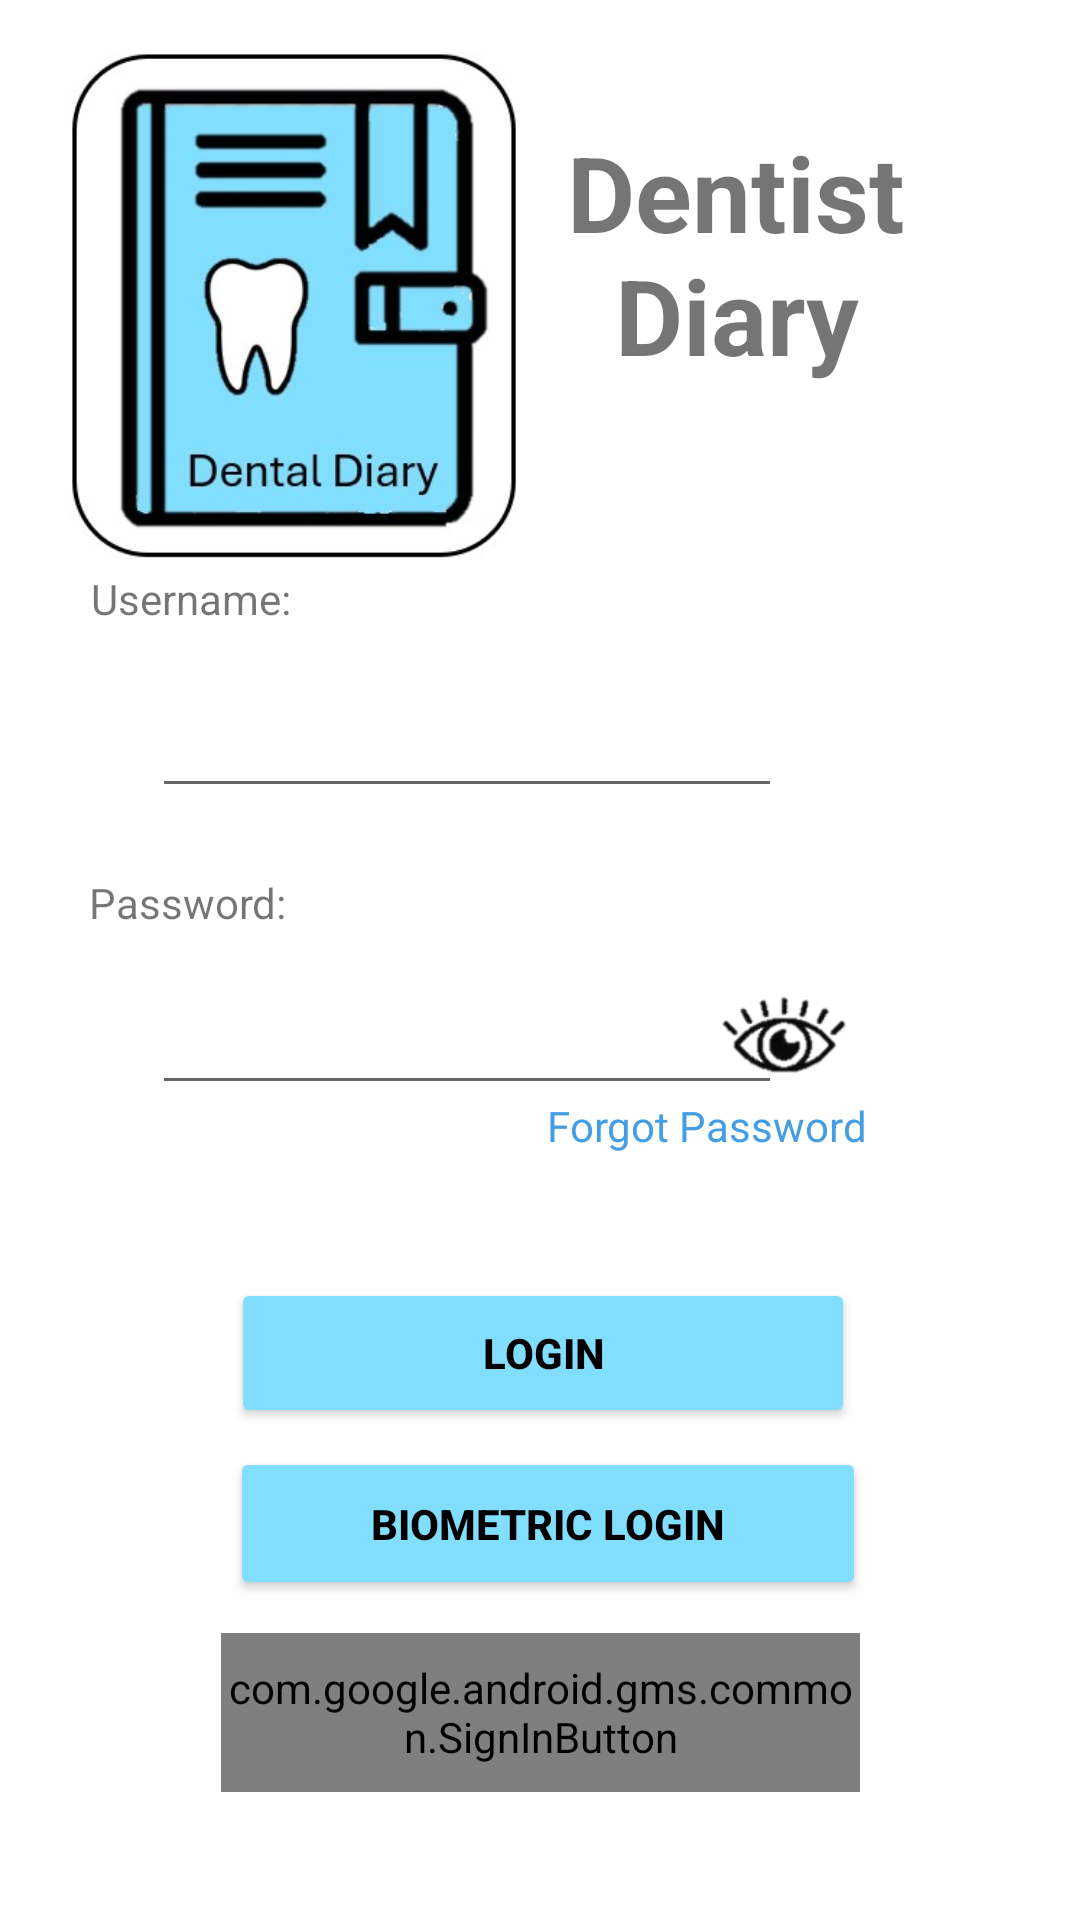

Locate icon controls on the screen. Image size 1080 x 1920, boxes as (left=x1, top=y1, right=x2, bottom=y2).
visible: (left=722, top=997, right=846, bottom=1073)
